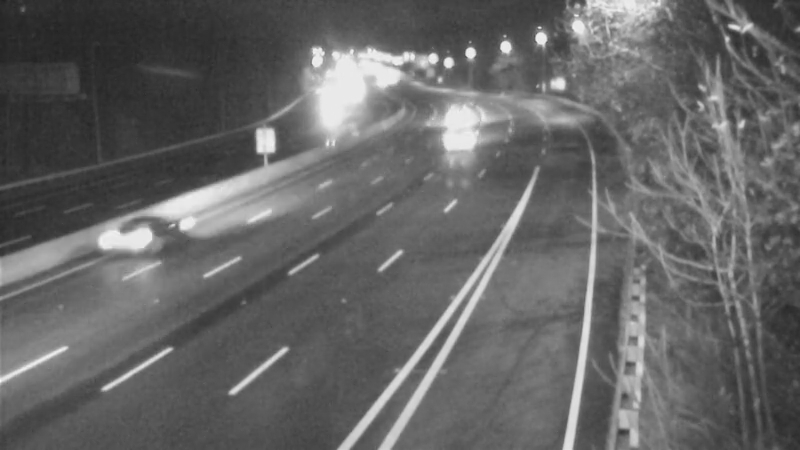vehicle: (93, 199, 173, 279), (433, 81, 483, 131), (439, 107, 489, 157)
